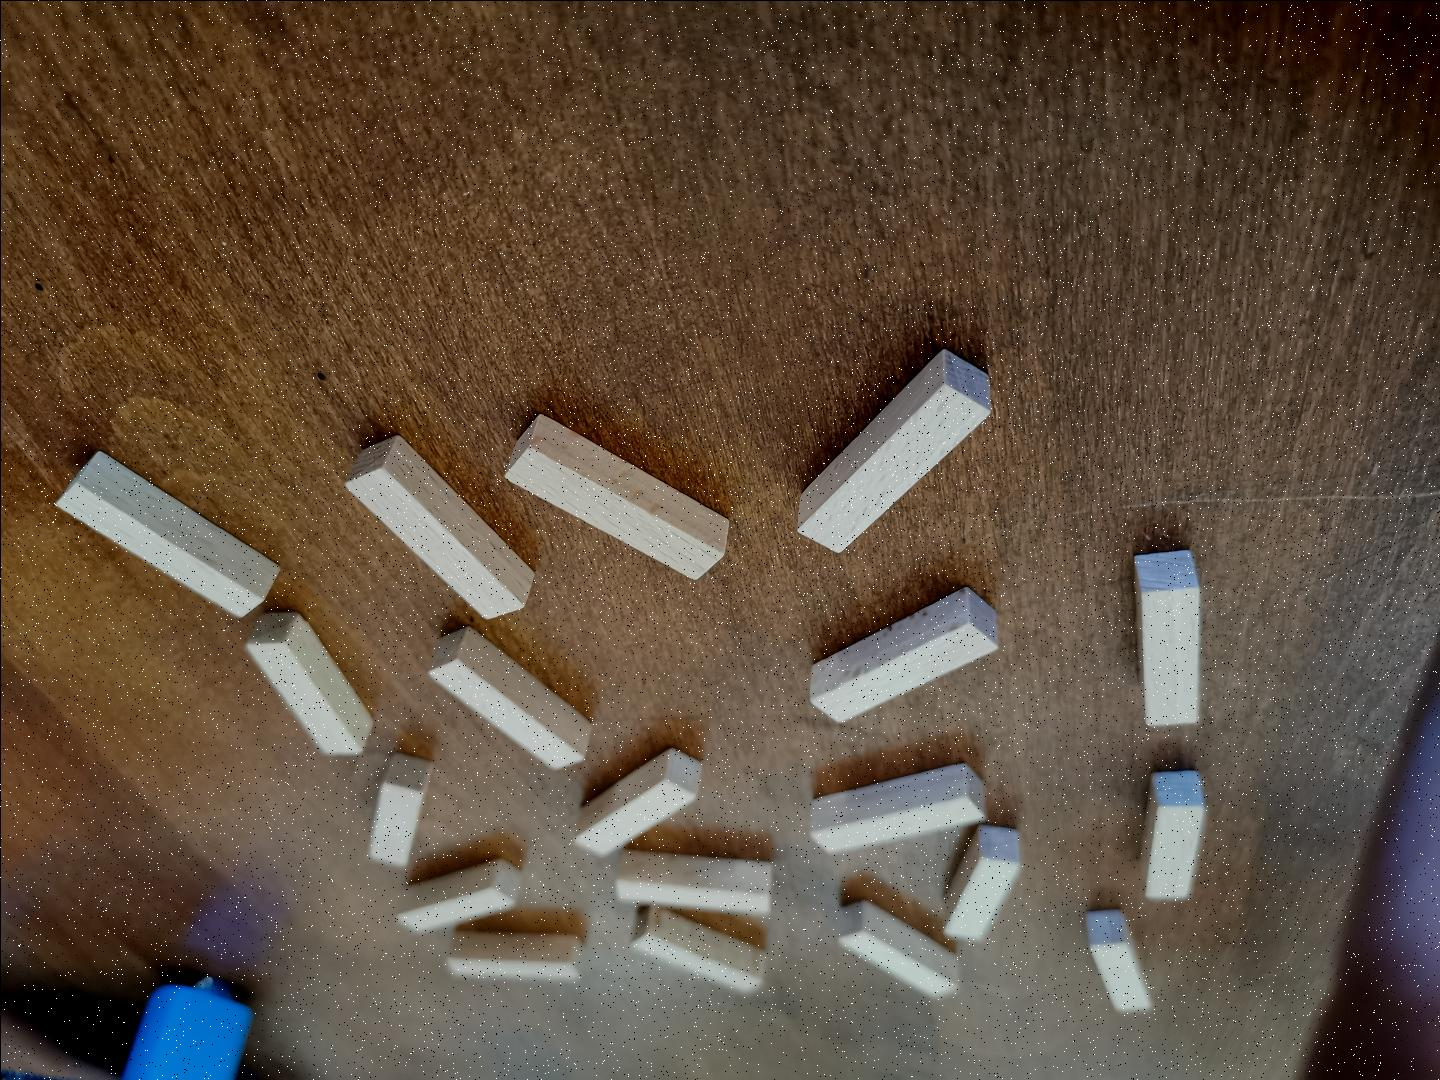jenga: (796, 348, 990, 551), (503, 413, 728, 580), (57, 450, 279, 616), (346, 436, 532, 618), (807, 588, 999, 723), (427, 627, 591, 768), (245, 610, 371, 753), (810, 762, 984, 852), (574, 748, 701, 855), (630, 905, 765, 993), (838, 900, 956, 998), (1134, 548, 1198, 726), (616, 850, 771, 914), (397, 858, 520, 934), (942, 824, 1020, 939), (1142, 768, 1204, 897), (369, 751, 431, 867), (1085, 909, 1151, 1012), (447, 931, 579, 979)
